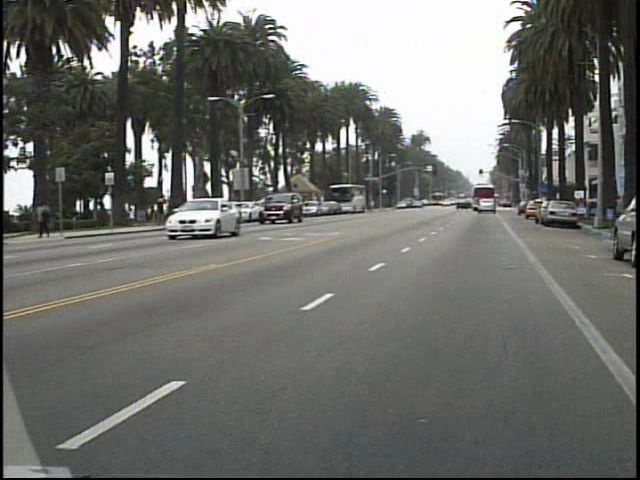person: (41, 195, 63, 240), (160, 191, 179, 226)
